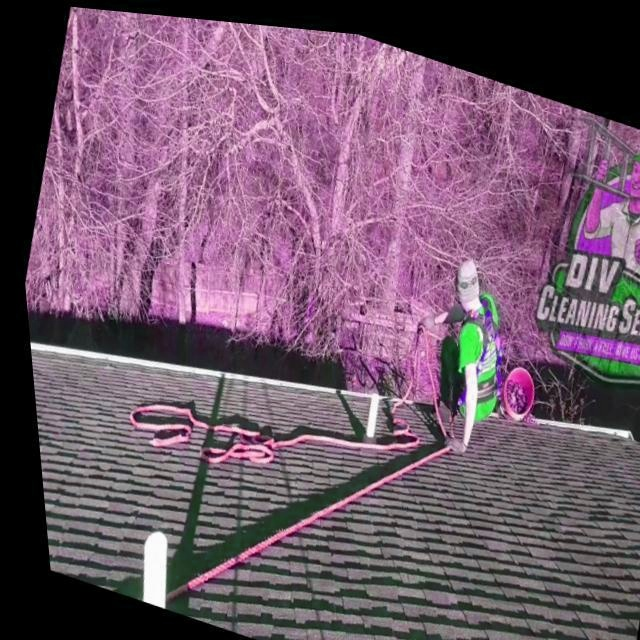safety belt: (449, 305, 521, 405)
